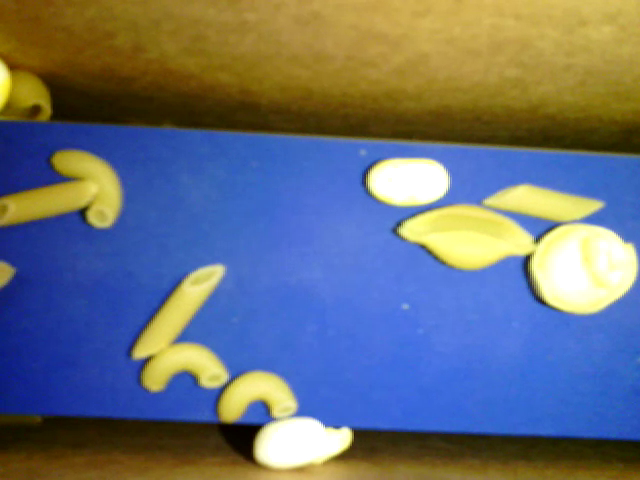elbow: (50, 146, 123, 229), (137, 343, 231, 393), (218, 368, 297, 421)
penne: (126, 262, 227, 363), (478, 180, 606, 222), (1, 179, 93, 231)
shell: (392, 204, 534, 271), (3, 70, 55, 122)
tortellini: (525, 222, 637, 316)
